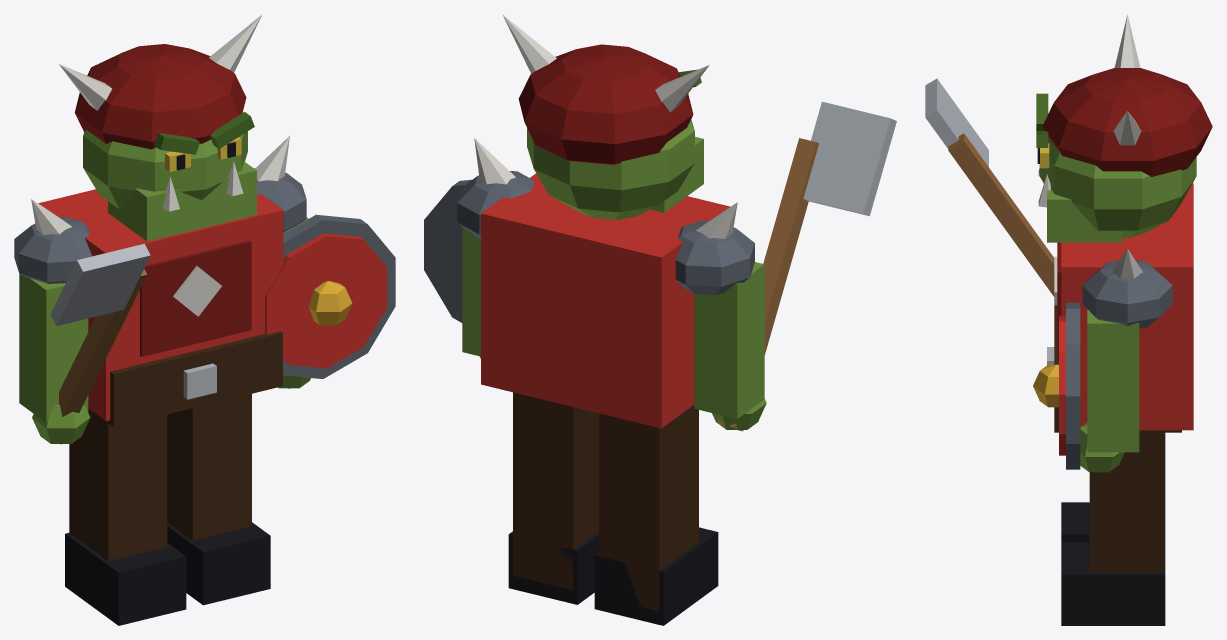
Rendered from grunt.fbx.
The picture shows the model from 3 angles, left to right: view 1: azimuth 30°, elevation 25°; view 2: azimuth 150°, elevation 25°; view 3: azimuth 270°, elevation 25°; orthographic projection. The views are drawn at different scales.
Visible parts, largest first — view 1: grunt_Body, grunt_LegR, grunt_LegL; view 2: grunt_Body, grunt_LegR, grunt_LegL; view 3: grunt_Body, grunt_LegL, grunt_LegR.
Boxes of the visible parts, x1,y1,x2,y2 form: grunt_Body: [14, 14, 395, 444]; grunt_LegR: [65, 409, 186, 625]; grunt_LegL: [167, 394, 270, 605]; grunt_Body: [424, 14, 896, 431]; grunt_LegR: [594, 405, 718, 625]; grunt_LegL: [508, 392, 598, 604]; grunt_Body: [925, 14, 1212, 472]; grunt_LegL: [1061, 432, 1165, 625]; grunt_LegR: [1061, 502, 1089, 542].
Size of the model in its own units: 0.9112 by 1.23 by 0.6073.
